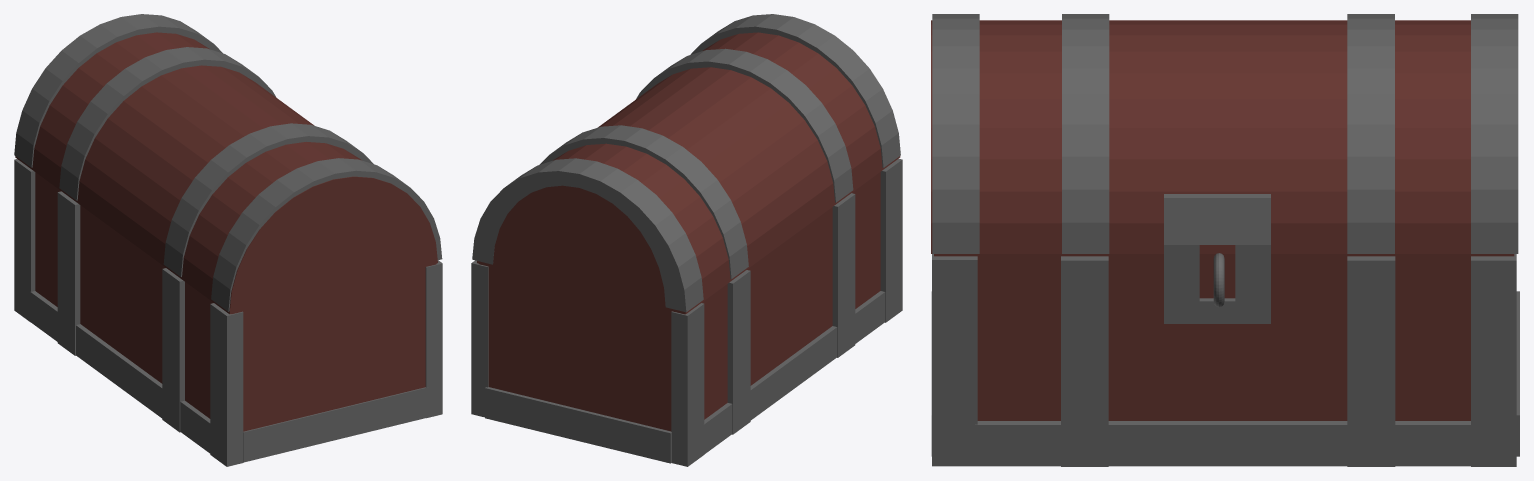
File: Chest.fbx
The picture shows the model from 3 angles, left to right: view 1: azimuth 30°, elevation 25°; view 2: azimuth 150°, elevation 25°; view 3: azimuth 270°, elevation 25°; orthographic projection. The views are drawn at different scales.
Visible parts, largest first — view 1: Cylinder, Cube.001, Cylinder.002, Cube.009, Cylinder.003, Cylinder.001, Cylinder.004, Cube.006, Cube.007, Cube.002, Cube.011, Cube.008 (+1 smaller); view 2: Cylinder, Cube.001, Cylinder.004, Cube.010, Cylinder.001, Cylinder.002, Cylinder.003, Cube.007, Cube.008, Cube.002, Cube.011, Cube.006 (+1 smaller); view 3: Cylinder, Cube.001, Cube.004, Cube, Cylinder.002, Cylinder.001, Cylinder.003, Cylinder.004, Cube.013, Cube.014, Cube.005, Cube.003 (+2 smaller).
Boxes of the visible parts, <box> form: Cylinder: <box>15,32,437,314</box>; Cube.001: <box>35,172,436,431</box>; Cylinder.002: <box>211,158,442,311</box>; Cube.009: <box>243,387,428,462</box>; Cylinder.003: <box>59,47,275,200</box>; Cylinder.001: <box>163,123,373,276</box>; Cylinder.004: <box>14,14,222,167</box>; Cube.006: <box>210,303,243,466</box>; Cube.007: <box>29,291,210,453</box>; Cube.002: <box>57,191,80,355</box>; Cube.011: <box>162,268,184,432</box>; Cube.008: <box>14,159,35,321</box>; Cylinder: <box>477,32,900,314</box>; Cube.001: <box>479,172,880,431</box>; Cylinder.004: <box>472,158,703,312</box>; Cube.010: <box>485,387,671,463</box>; Cylinder.001: <box>636,48,853,202</box>; Cylinder.002: <box>690,14,900,167</box>; Cylinder.003: <box>539,125,748,279</box>; Cube.007: <box>703,291,885,454</box>; Cube.008: <box>671,303,704,466</box>; Cube.002: <box>727,270,750,434</box>; Cube.011: <box>832,193,855,357</box>; Cube.006: <box>880,158,902,322</box>; Cylinder: <box>931,20,1470,253</box>; Cube.001: <box>934,254,1514,420</box>; Cube.004: <box>975,421,1470,466</box>; Cube: <box>1164,194,1270,323</box>; Cylinder.002: <box>932,14,979,253</box>; Cylinder.001: <box>1062,14,1109,253</box>; Cylinder.003: <box>1347,14,1394,253</box>; Cylinder.004: <box>1471,14,1518,253</box>; Cube.013: <box>1347,256,1395,466</box>; Cube.014: <box>1061,256,1108,466</box>; Cube.005: <box>1471,254,1516,466</box>; Cube.003: <box>932,254,977,466</box>.
Size of the model in its own units: 318 by 346 by 505.
